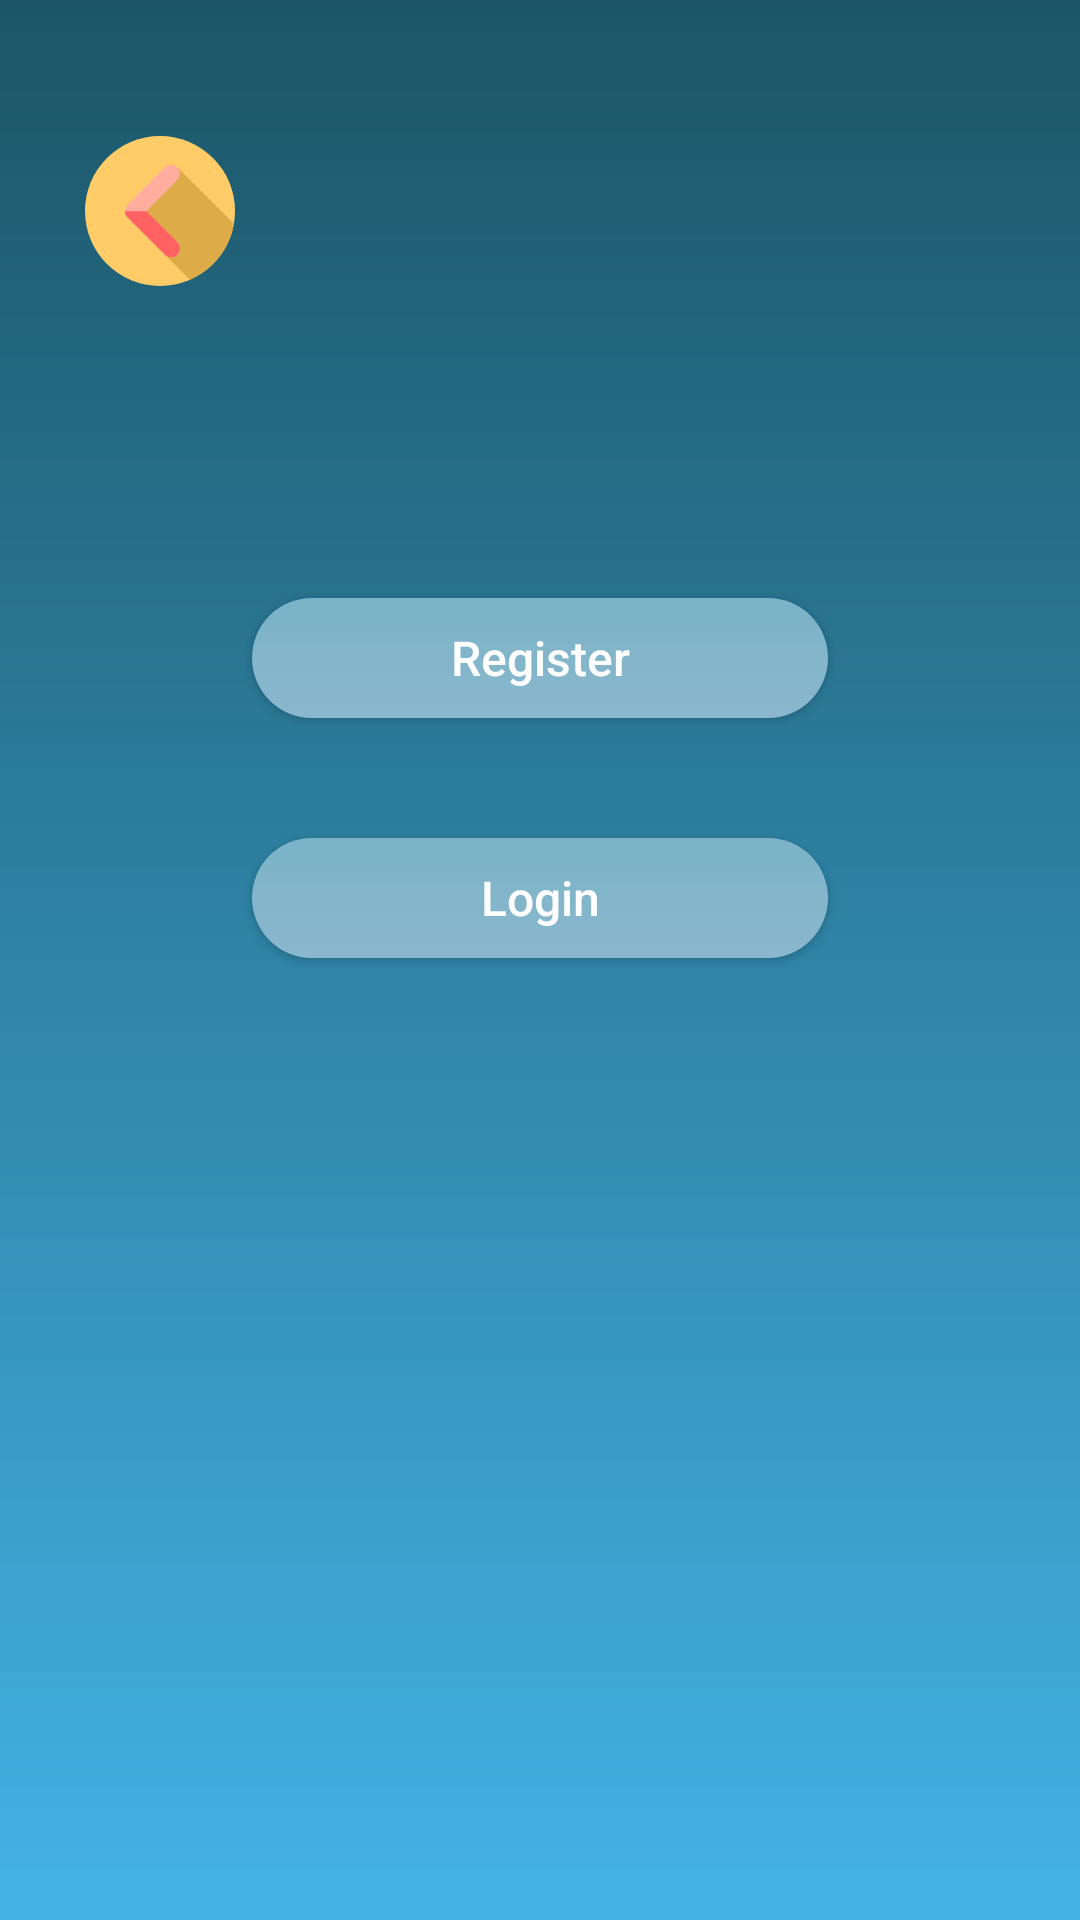

Named icons in this screenshot (1080px×1920px) and their bounding boxes, detection(x1, y1, x2, y2):
back profile: detection(85, 136, 235, 286)
